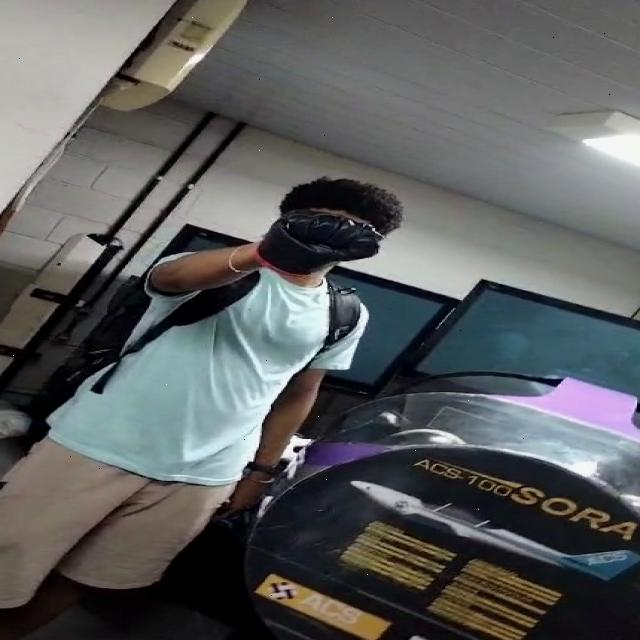Gloves: (257, 203, 387, 290)
